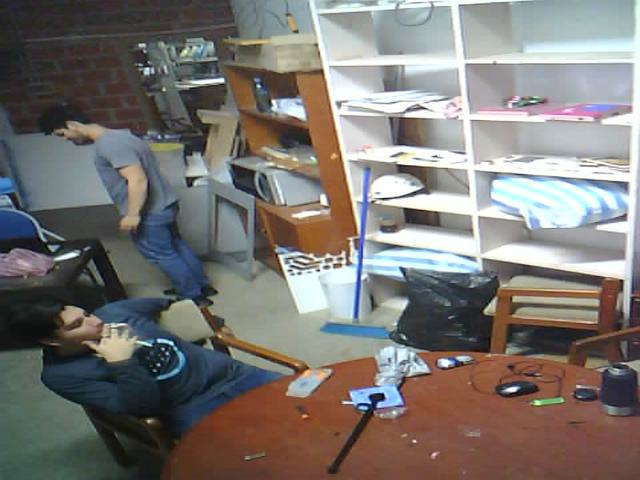person: (5, 282, 309, 477), (43, 97, 236, 313)
